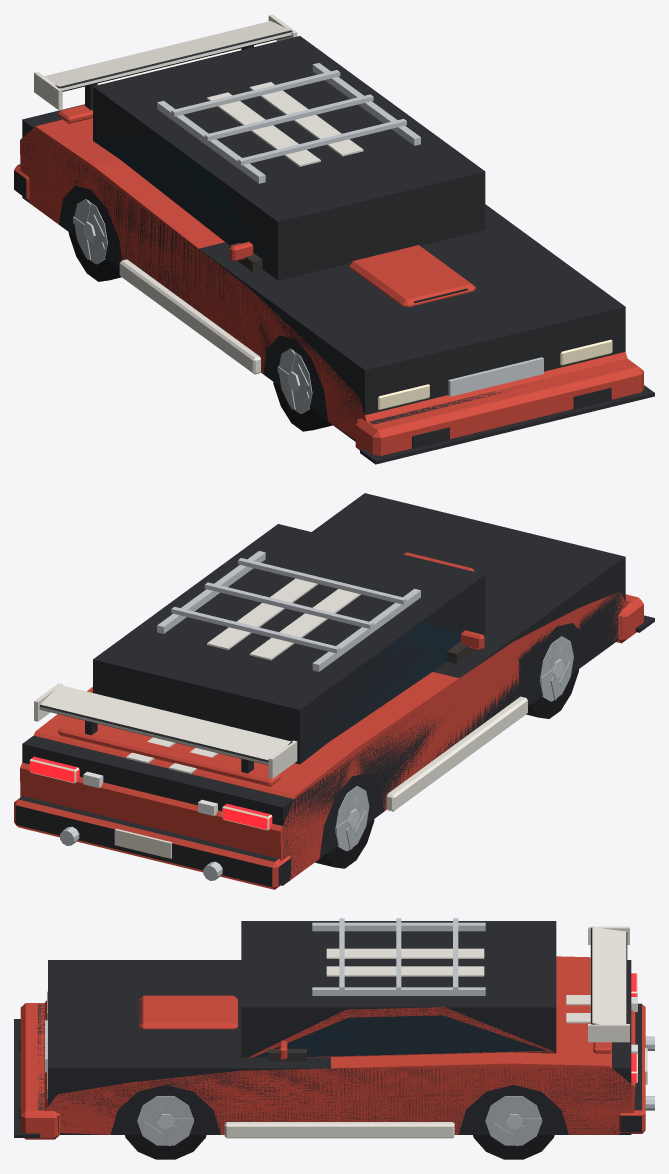
File: VEH_Sports.fbx
3 renders of one model, top to bottom at view 1: azimuth 30°, elevation 25°; view 2: azimuth 150°, elevation 25°; view 3: azimuth 270°, elevation 25°, orthographic. The views are drawn at different scales.
Parts seen in each view (by area): view 1: VEH_Sports__COL_Cabin, VEH_Sports__COL_Body, VEH_Sports, VEH_Sports__BODY, VEH_Sports__WHEEL_FR, VEH_Sports__WHEEL_RR, VEH_Sports__LIGHTS; view 2: VEH_Sports__COL_Cabin, VEH_Sports__BODY, VEH_Sports__COL_Body, VEH_Sports, VEH_Sports__WHEEL_RR, VEH_Sports__WHEEL_FR, VEH_Sports__LIGHTS; view 3: VEH_Sports__BODY, VEH_Sports__COL_Body, VEH_Sports__COL_Cabin, VEH_Sports, VEH_Sports__WHEEL_RL, VEH_Sports__WHEEL_FL, VEH_Sports__LIGHTS, VEH_Sports__INTERIOR.
Part boxes in pixels (<box>): VEH_Sports__COL_Cabin: <box>93,36,485,280</box>; VEH_Sports__COL_Body: <box>22,104,625,441</box>; VEH_Sports: <box>34,14,654,464</box>; VEH_Sports__BODY: <box>14,118,627,439</box>; VEH_Sports__WHEEL_FR: <box>273,348,332,431</box>; VEH_Sports__WHEEL_RR: <box>68,199,121,281</box>; VEH_Sports__LIGHTS: <box>378,339,612,409</box>; VEH_Sports__COL_Cabin: <box>93,524,485,764</box>; VEH_Sports__BODY: <box>14,592,628,889</box>; VEH_Sports__COL_Body: <box>22,493,625,885</box>; VEH_Sports: <box>34,551,654,880</box>; VEH_Sports__WHEEL_RR: <box>315,786,374,868</box>; VEH_Sports__WHEEL_FR: <box>526,636,578,718</box>; VEH_Sports__LIGHTS: <box>29,756,272,830</box>; VEH_Sports__BODY: <box>37,956,647,1134</box>; VEH_Sports__COL_Body: <box>48,960,631,1134</box>; VEH_Sports__COL_Cabin: <box>241,921,556,1057</box>; VEH_Sports: <box>14,918,654,1139</box>; VEH_Sports__WHEEL_RL: <box>473,1096,554,1159</box>; VEH_Sports__WHEEL_FL: <box>125,1095,206,1159</box>; VEH_Sports__LIGHTS: <box>47,973,637,1098</box>; VEH_Sports__INTERIOR: <box>267,1049,306,1061</box>.
Bounding box in the file's own units: 2.09 × 1.29 × 4.88.
